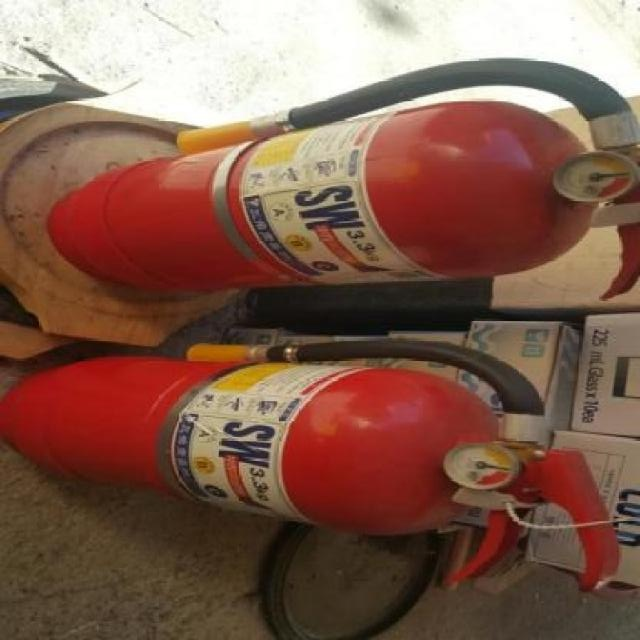fire extinguisher: (0, 338, 623, 594), (48, 57, 640, 300)
